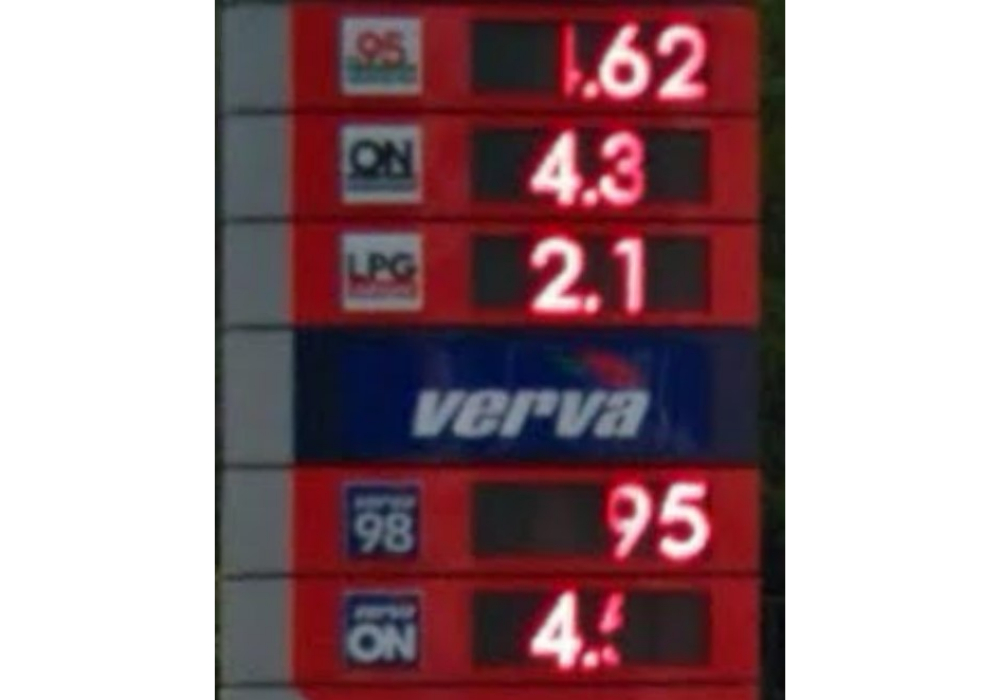LPG: (336, 229, 427, 315)
ON: (335, 121, 425, 206), (340, 586, 424, 671)
PB95: (333, 11, 424, 99)
PB98: (341, 475, 425, 561)
